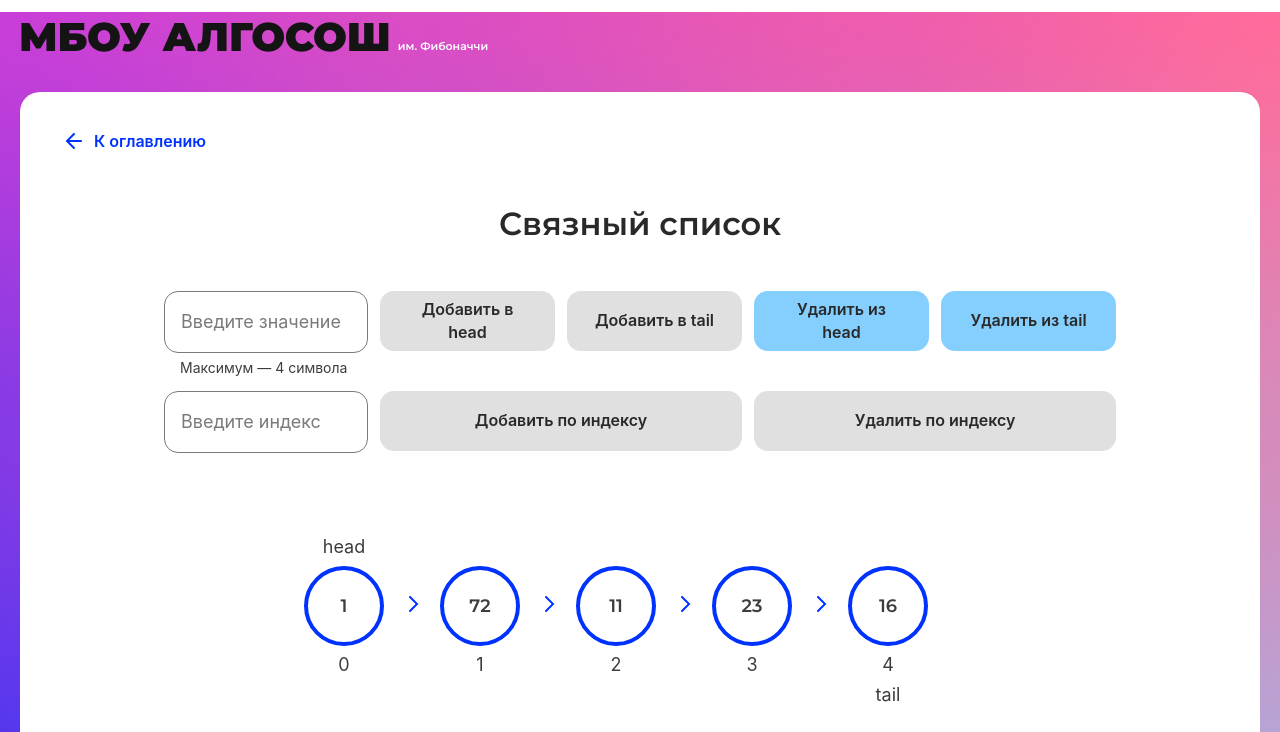
Test: list page display correctly › should add to tail works correctly
Type "1" into the field with test id "inputValue" at (266, 322), box [164,291,368,353]
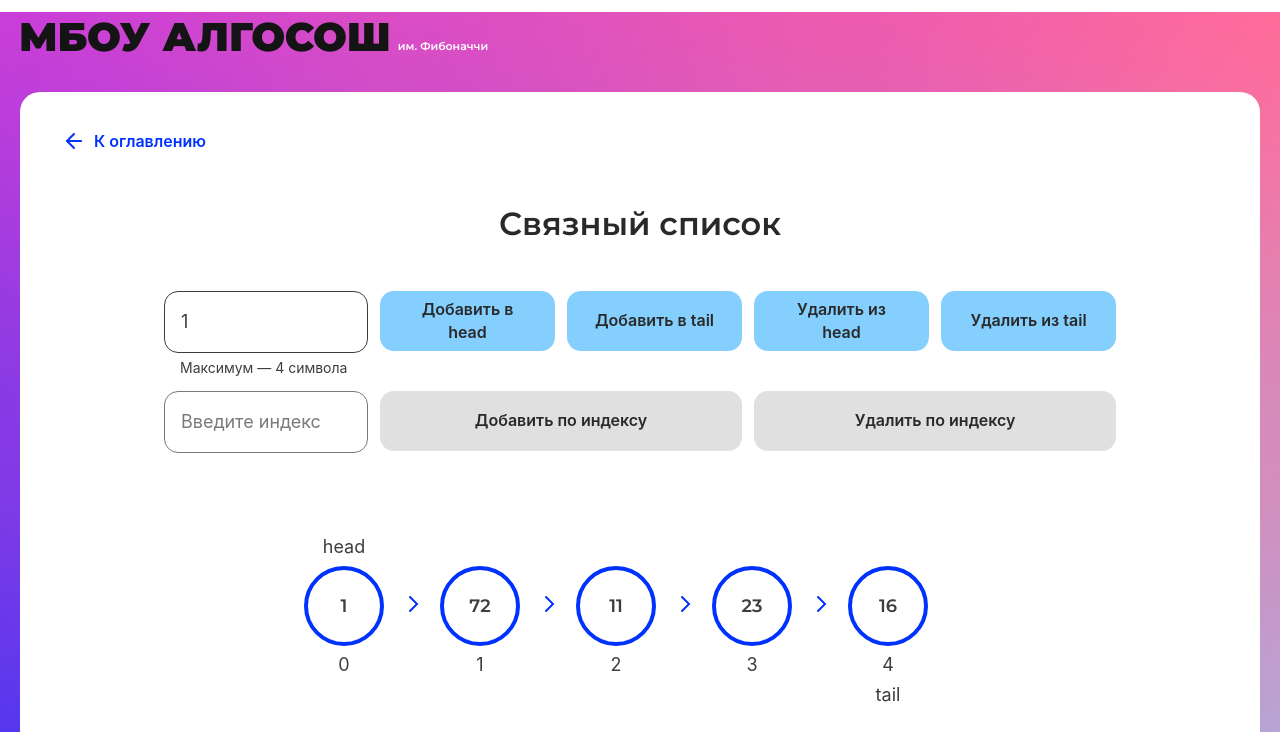
Click the button with test id "addIntoTail" at (655, 321), box [567,291,742,351]
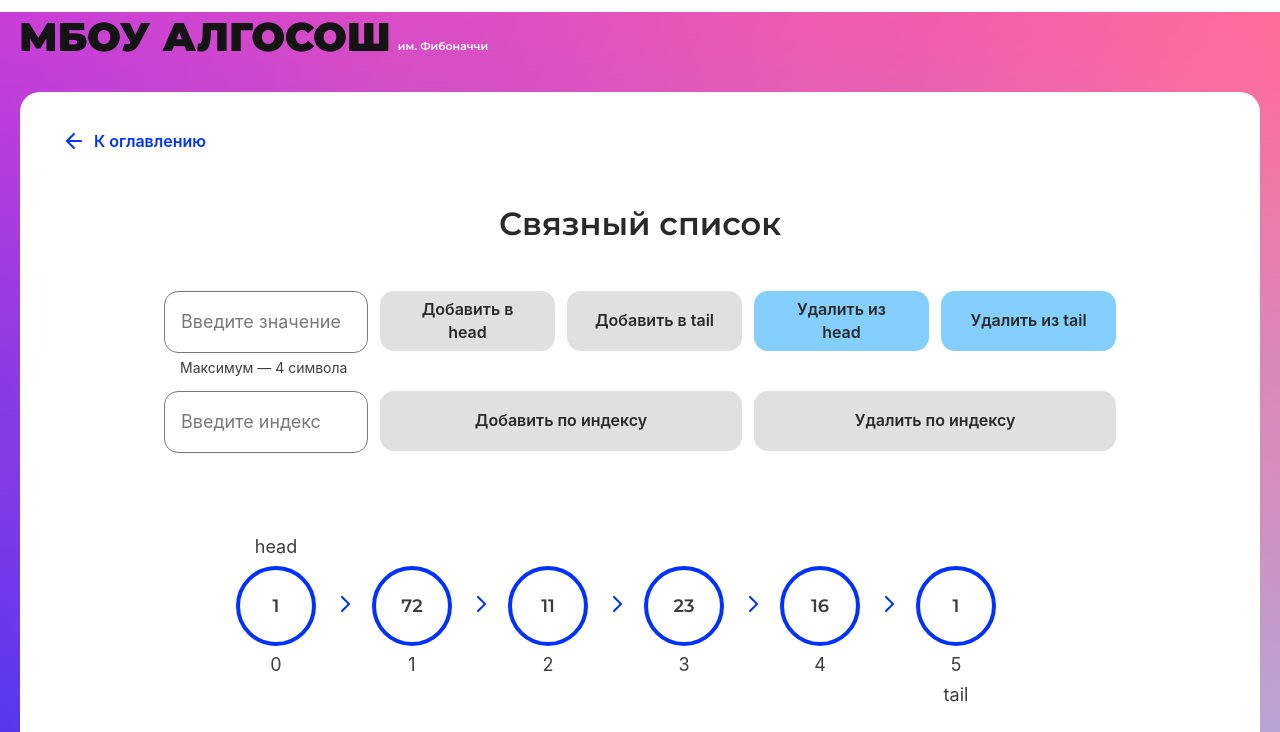
Result: the number of elements with test id "circle-cont" is 6 at [236,566,316,646]; [372,566,452,646]; [508,566,588,646]; [644,566,724,646]; [780,566,860,646]; [916,566,996,646]
Result: the number of icons with test id "arrow" is 5 at [332,592,356,616]; [468,592,492,616]; [604,592,628,616]; [740,592,764,616]; [876,592,900,616]
